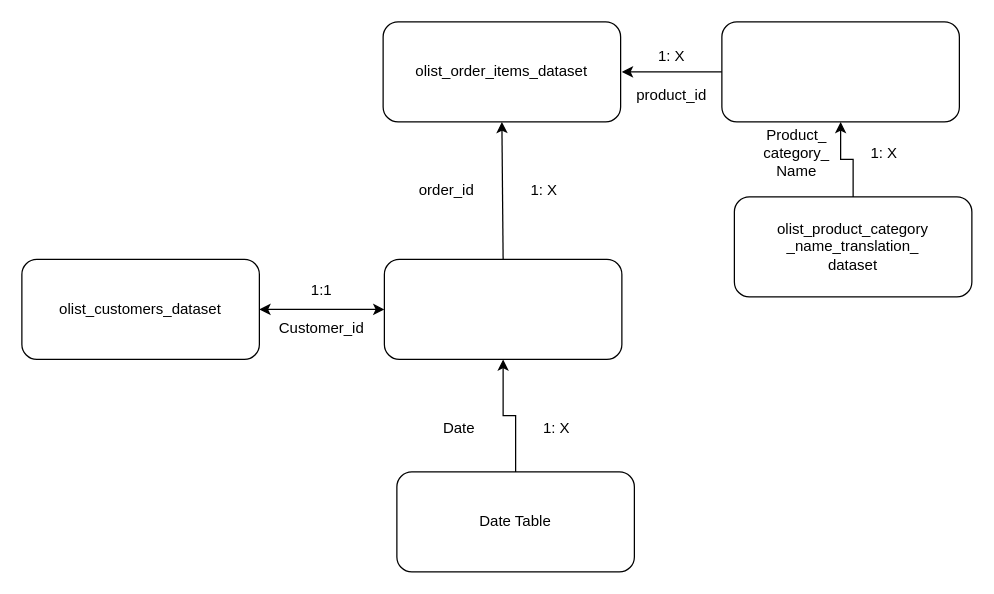
Some shapes in this 994 by 594 pixel diagram are drawn without their labels. The box of each missing label's shape, as (x1, y1, x2, y2) in pixels:
olist_orders_dataset: (383, 258, 622, 359)
olist_products_dataset: (721, 21, 959, 122)
